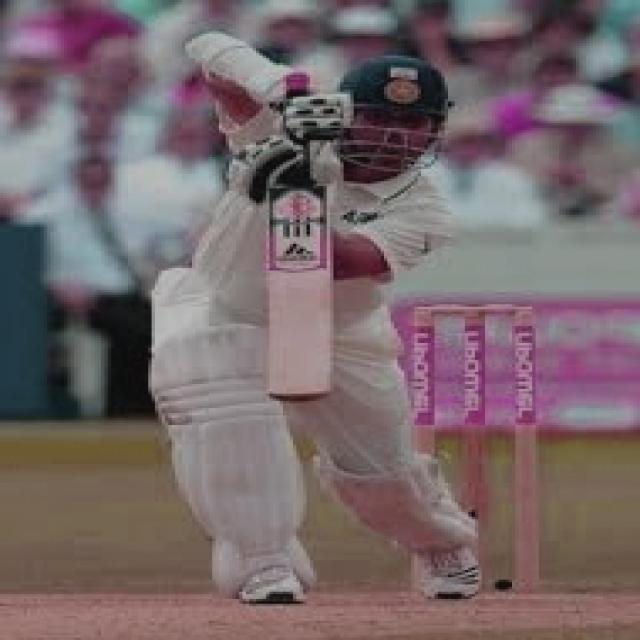toe: (256, 334, 344, 414)
